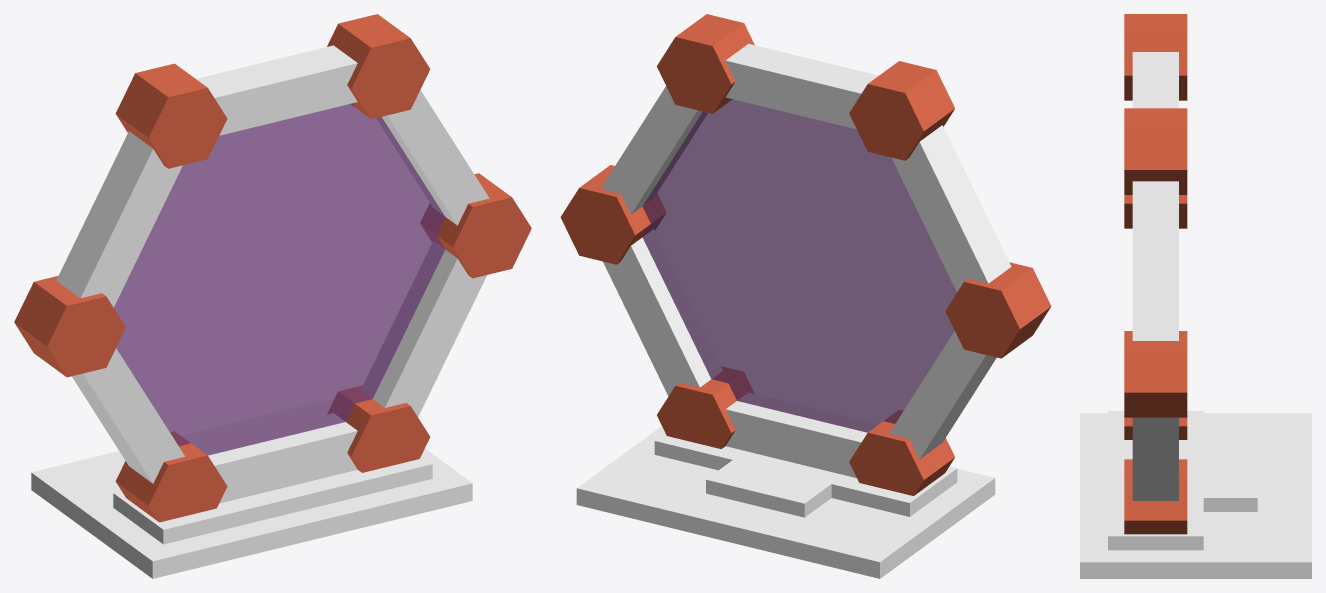
Rendered from portal.fbx.
3 views of the same model, side by side, from view 1: azimuth 30°, elevation 25°; view 2: azimuth 150°, elevation 25°; view 3: azimuth 270°, elevation 25° (orthographic). The views are drawn at different scales.
Visible parts, largest first — view 1: portal; view 2: portal; view 3: portal.
Part boxes in pixels (left/top/right/bottom): portal: left=14, top=14, right=531, bottom=578; portal: left=560, top=14, right=1051, bottom=578; portal: left=1080, top=14, right=1311, bottom=578.
Bounding box in the file's own units: 15.21 × 13.65 × 6.61.
